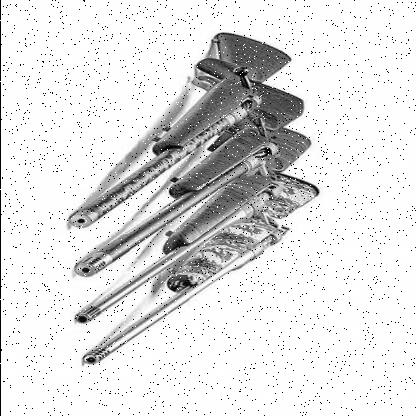rifle: (52, 30, 291, 233)
